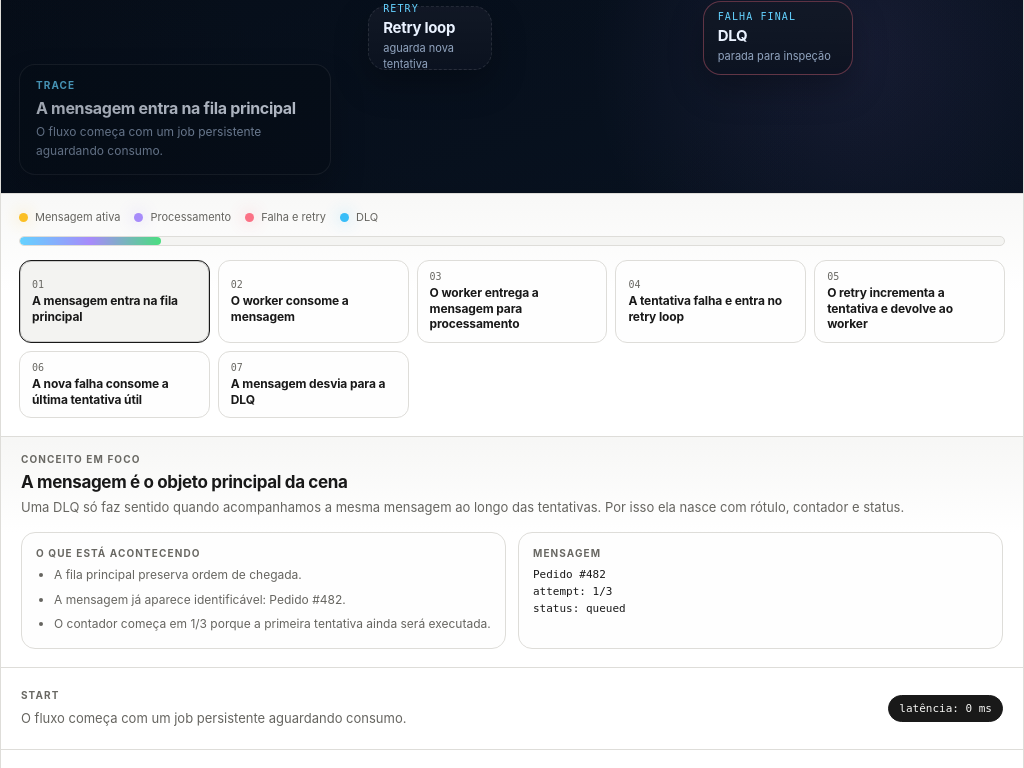
LessonPlayer › usa um renderer de fila com mensagem persistente para a lição de DLQ
(page scrolled)
Click the button "06 A nova falha consome a última tentativa útil": (114, 385) [19, 351, 210, 418]
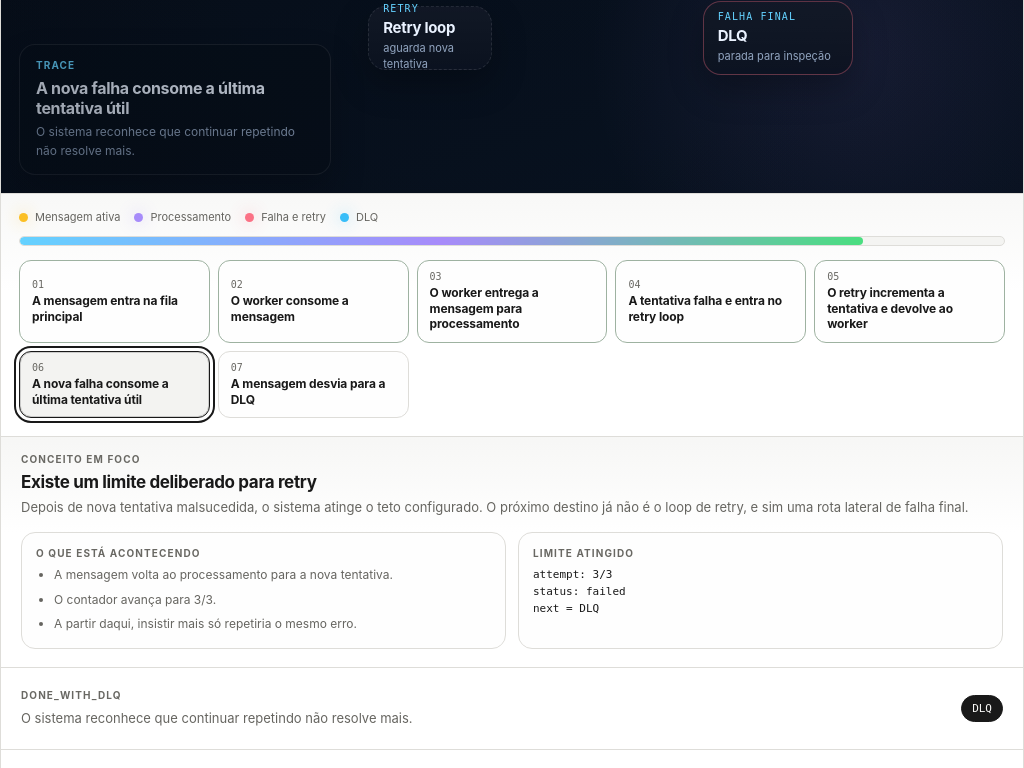
expect the element labelled "Conceito em foco" shows "Existe um limite deliberado para retry": met, box [21, 472, 316, 492]
Click the button "07 A mensagem desvia para a DLQ": (313, 385) [218, 351, 409, 418]
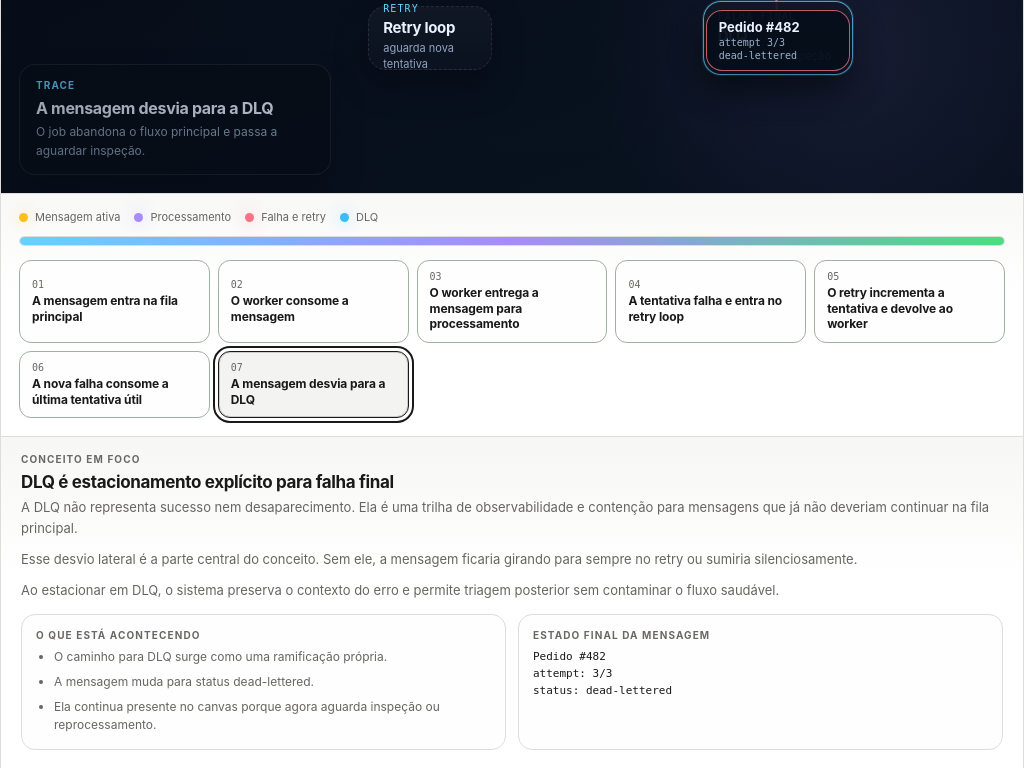
expect the element labelled "Conceito em foco" shows "DLQ é estacionamento explícito para falha final": met, box [21, 472, 394, 492]
expect the text "dead-lettered" is shown: met, box [719, 50, 797, 61]
